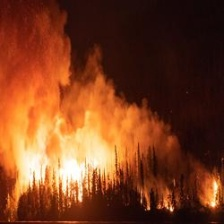fire: (18, 138, 115, 201), (198, 178, 223, 210), (139, 201, 179, 214)
smoke: (1, 9, 165, 129)
